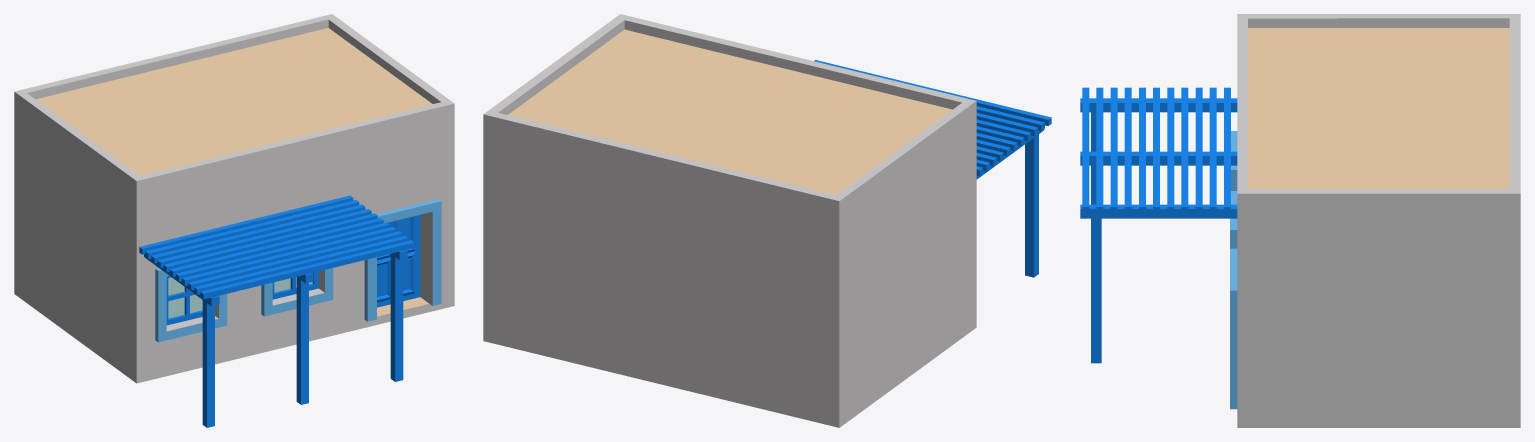
File: house_02b.fbx
3 views of the same model, side by side, from view 1: azimuth 30°, elevation 25°; view 2: azimuth 150°, elevation 25°; view 3: azimuth 270°, elevation 25° (orthographic). The views are drawn at different scales.
Parts seen in each view (by area): view 1: house_02b; view 2: house_02b; view 3: house_02b.
Part boxes in pixels (box(x1,y1,x2,y2)): house_02b: box(14, 14, 454, 427); house_02b: box(483, 14, 1051, 427); house_02b: box(1080, 14, 1520, 427).
Bounding box in the file's own units: 600 × 365 × 621.
